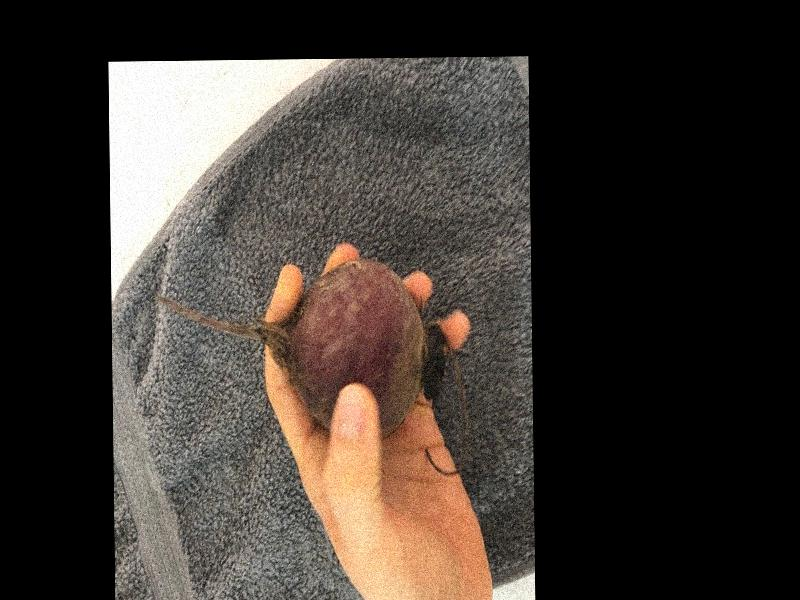Beet: (152, 257, 445, 443)
